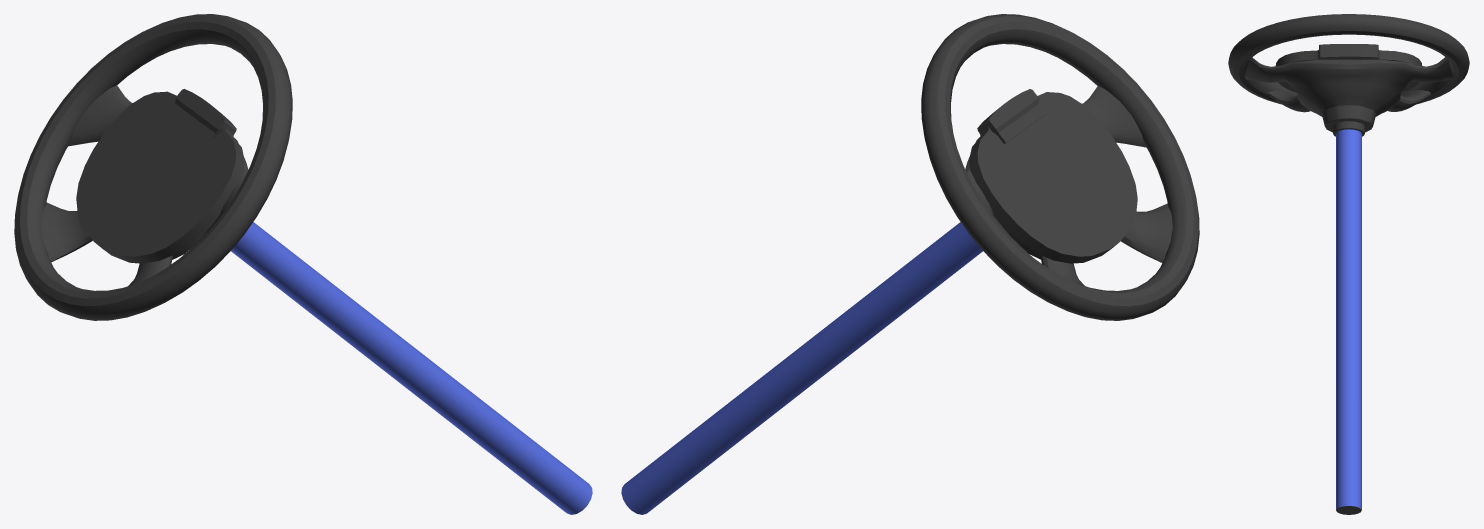
File: steering.dae
3 renders of one model, left to right at view 1: azimuth 30°, elevation 25°; view 2: azimuth 150°, elevation 25°; view 3: azimuth 270°, elevation 25°, orthographic. The views are drawn at different scales.
Parts seen in each view (by area): view 1: volanteOrign; view 2: volanteOrign; view 3: volanteOrign.
Boxes of the visible parts, bbox=[...] form: volanteOrign: bbox=[14, 14, 592, 514]; volanteOrign: bbox=[621, 14, 1199, 514]; volanteOrign: bbox=[1228, 14, 1469, 514].
Bounding box in the file's own units: 61.36 × 33.84 × 60.58.
